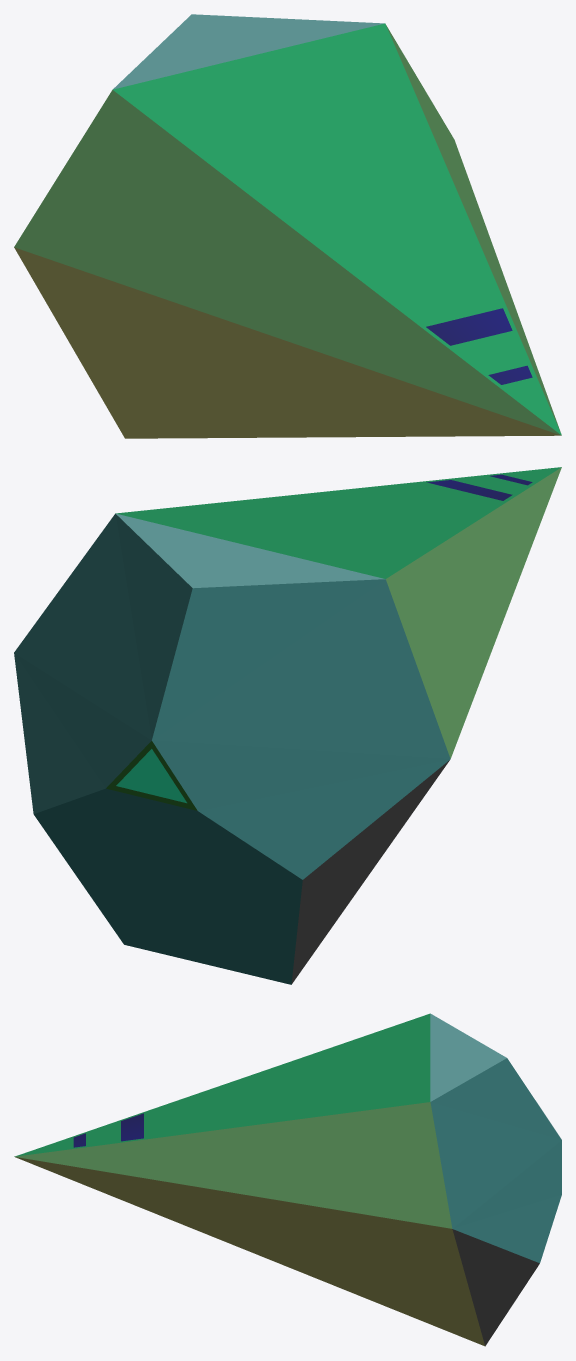
The model's file is arc_boa_cruiser.glb.
The picture shows the model from 3 angles, top to bottom: view 1: azimuth 30°, elevation 25°; view 2: azimuth 150°, elevation 25°; view 3: azimuth 270°, elevation 25°; orthographic projection. The views are drawn at different scales.
Parts seen in each view (by area): view 1: griff_arcelite_boa(elite); view 2: griff_arcelite_boa(elite), griff_arcelite_boa(elite).001; view 3: griff_arcelite_boa(elite).
Boxes of the visible parts, x1=… form: griff_arcelite_boa(elite): x1=14, y1=14, x2=561, y2=438; griff_arcelite_boa(elite): x1=14, y1=467, x2=561, y2=984; griff_arcelite_boa(elite).001: x1=116, y1=749, x2=186, y2=803; griff_arcelite_boa(elite): x1=14, y1=1013, x2=561, y2=1346.
Bounding box in the file's own units: 0.7026 × 0.5989 × 1.14.
1 material, 1 textured.
